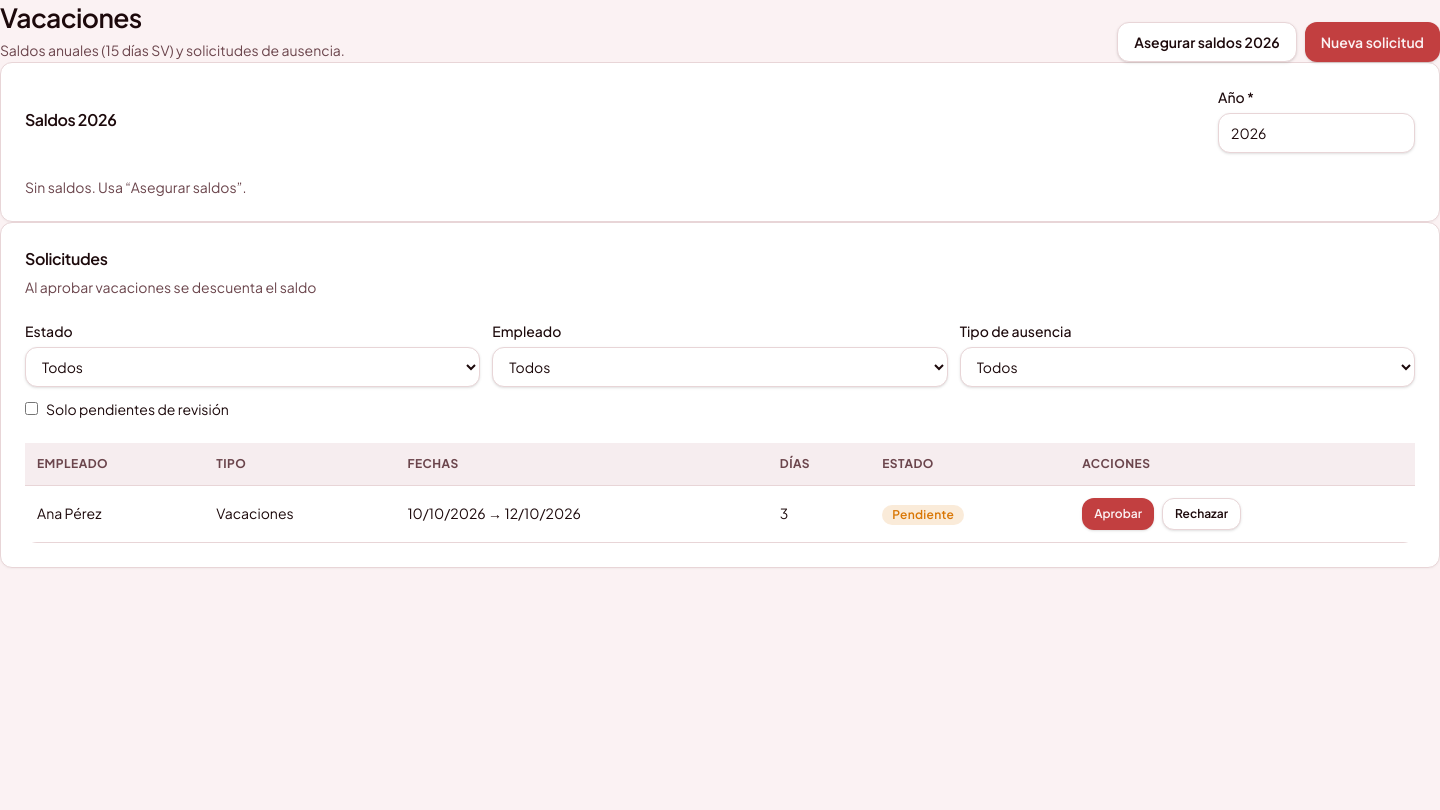
Test: actualización de solicitudes de vacaciones › refresca la solicitud tras un 409 al aprobar, muestra el error y bloquea el reintento
This screenshot has width=1440, height=810.
Click the button "Aprobar" at {"x": 1118, "y": 514}, box left=1082, top=498, right=1154, bottom=530
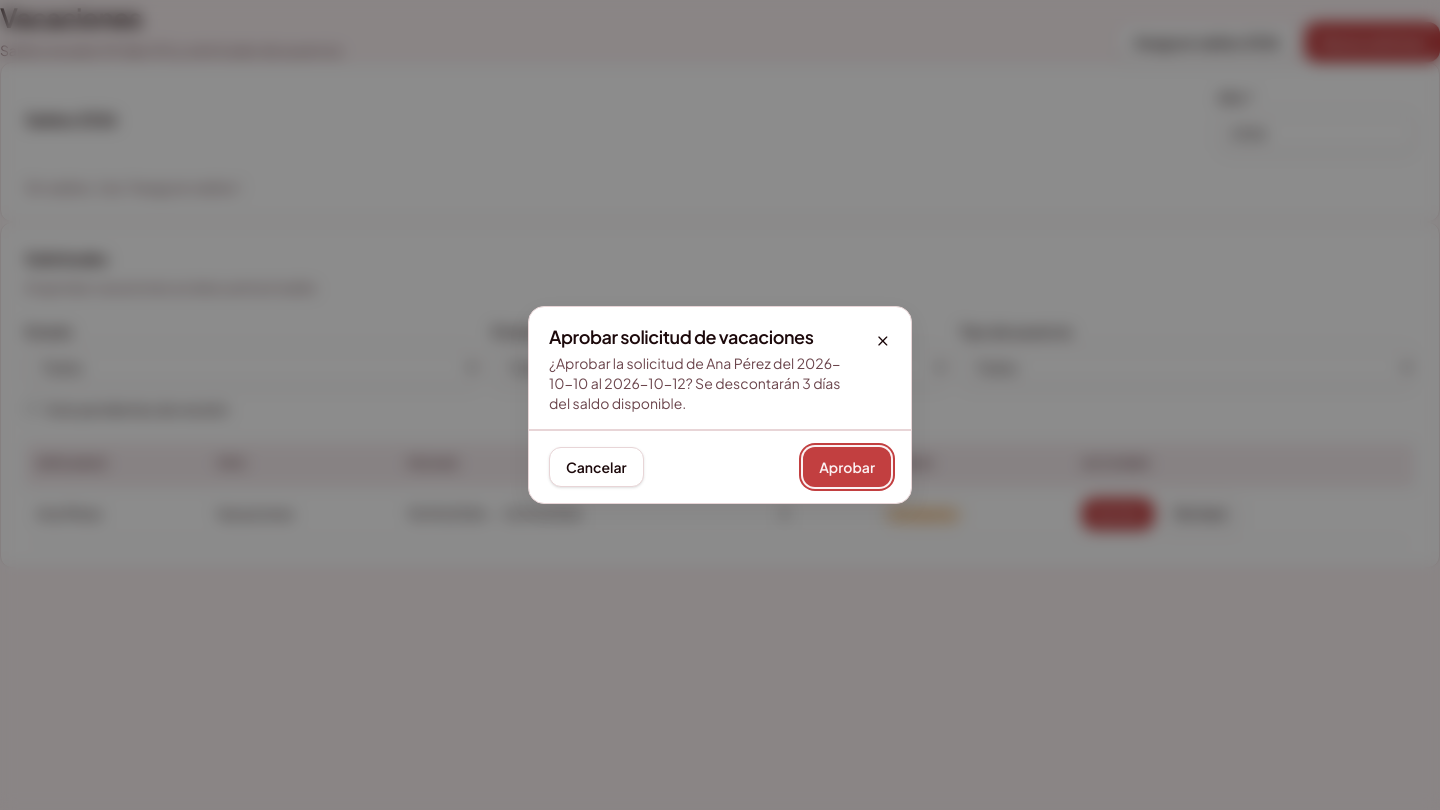
Click the button "Aprobar" at {"x": 847, "y": 467}, box left=803, top=447, right=891, bottom=487
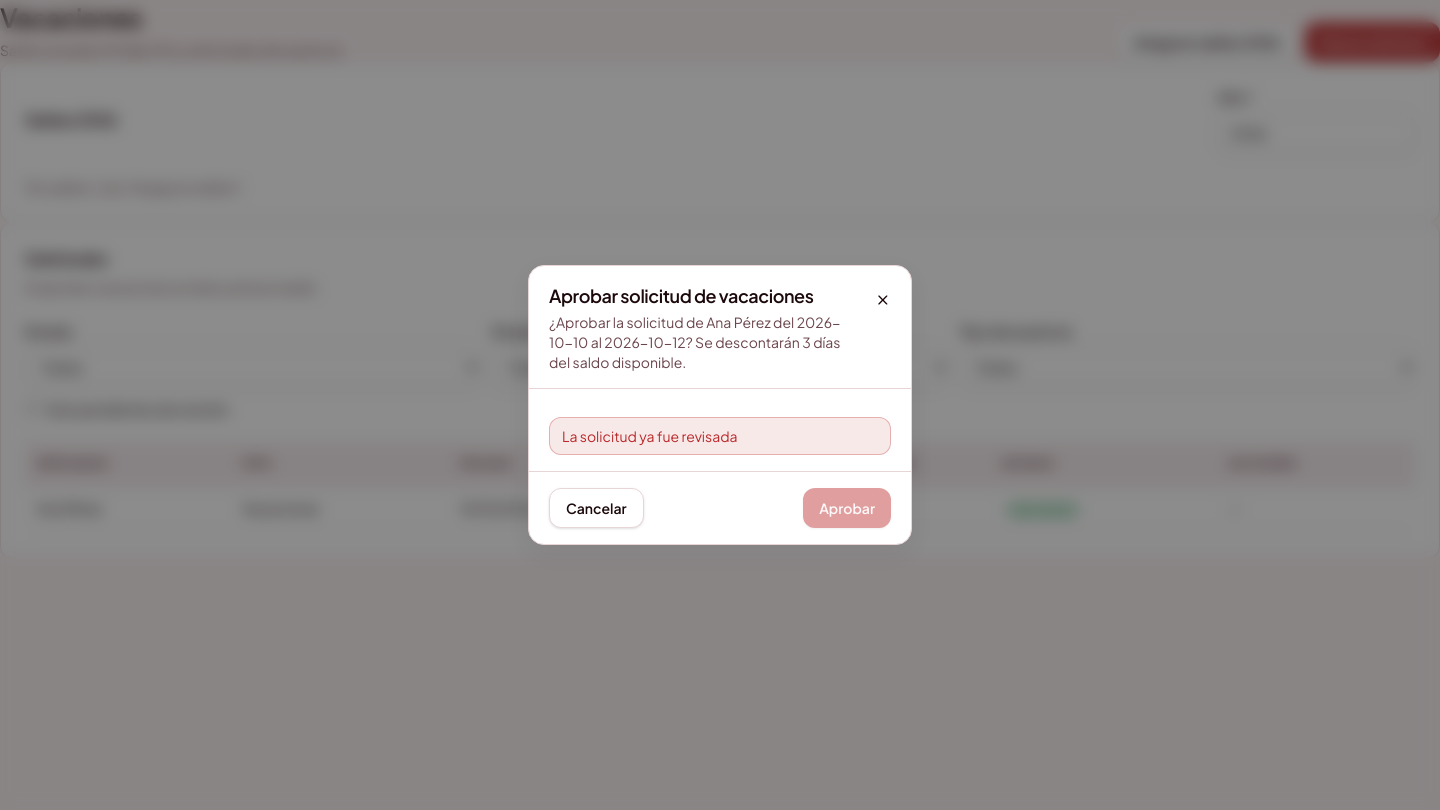
Check: the dialog is shown, box left=528, top=265, right=912, bottom=545
Check: the message reads "La solicitud ya fue revisada", box left=562, top=427, right=738, bottom=445
Check: the button "Aprobar" is disabled, box left=803, top=488, right=891, bottom=528
